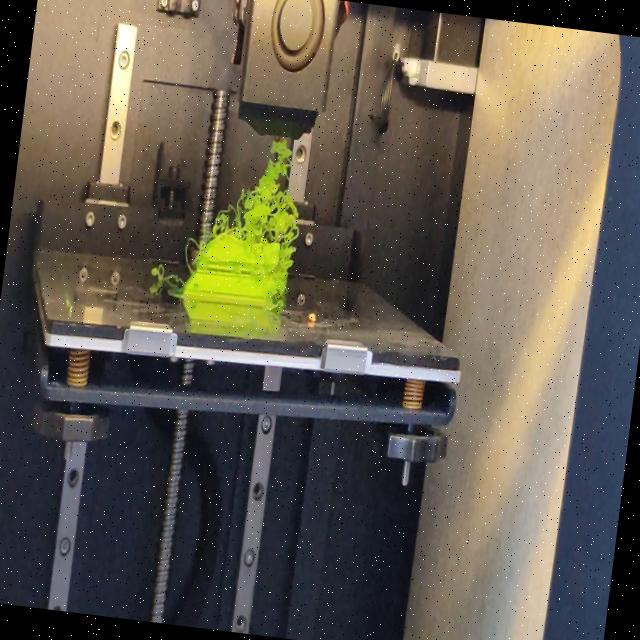spaghetti: (207, 133, 308, 248), (272, 250, 293, 311), (178, 235, 201, 276), (150, 262, 182, 288)
